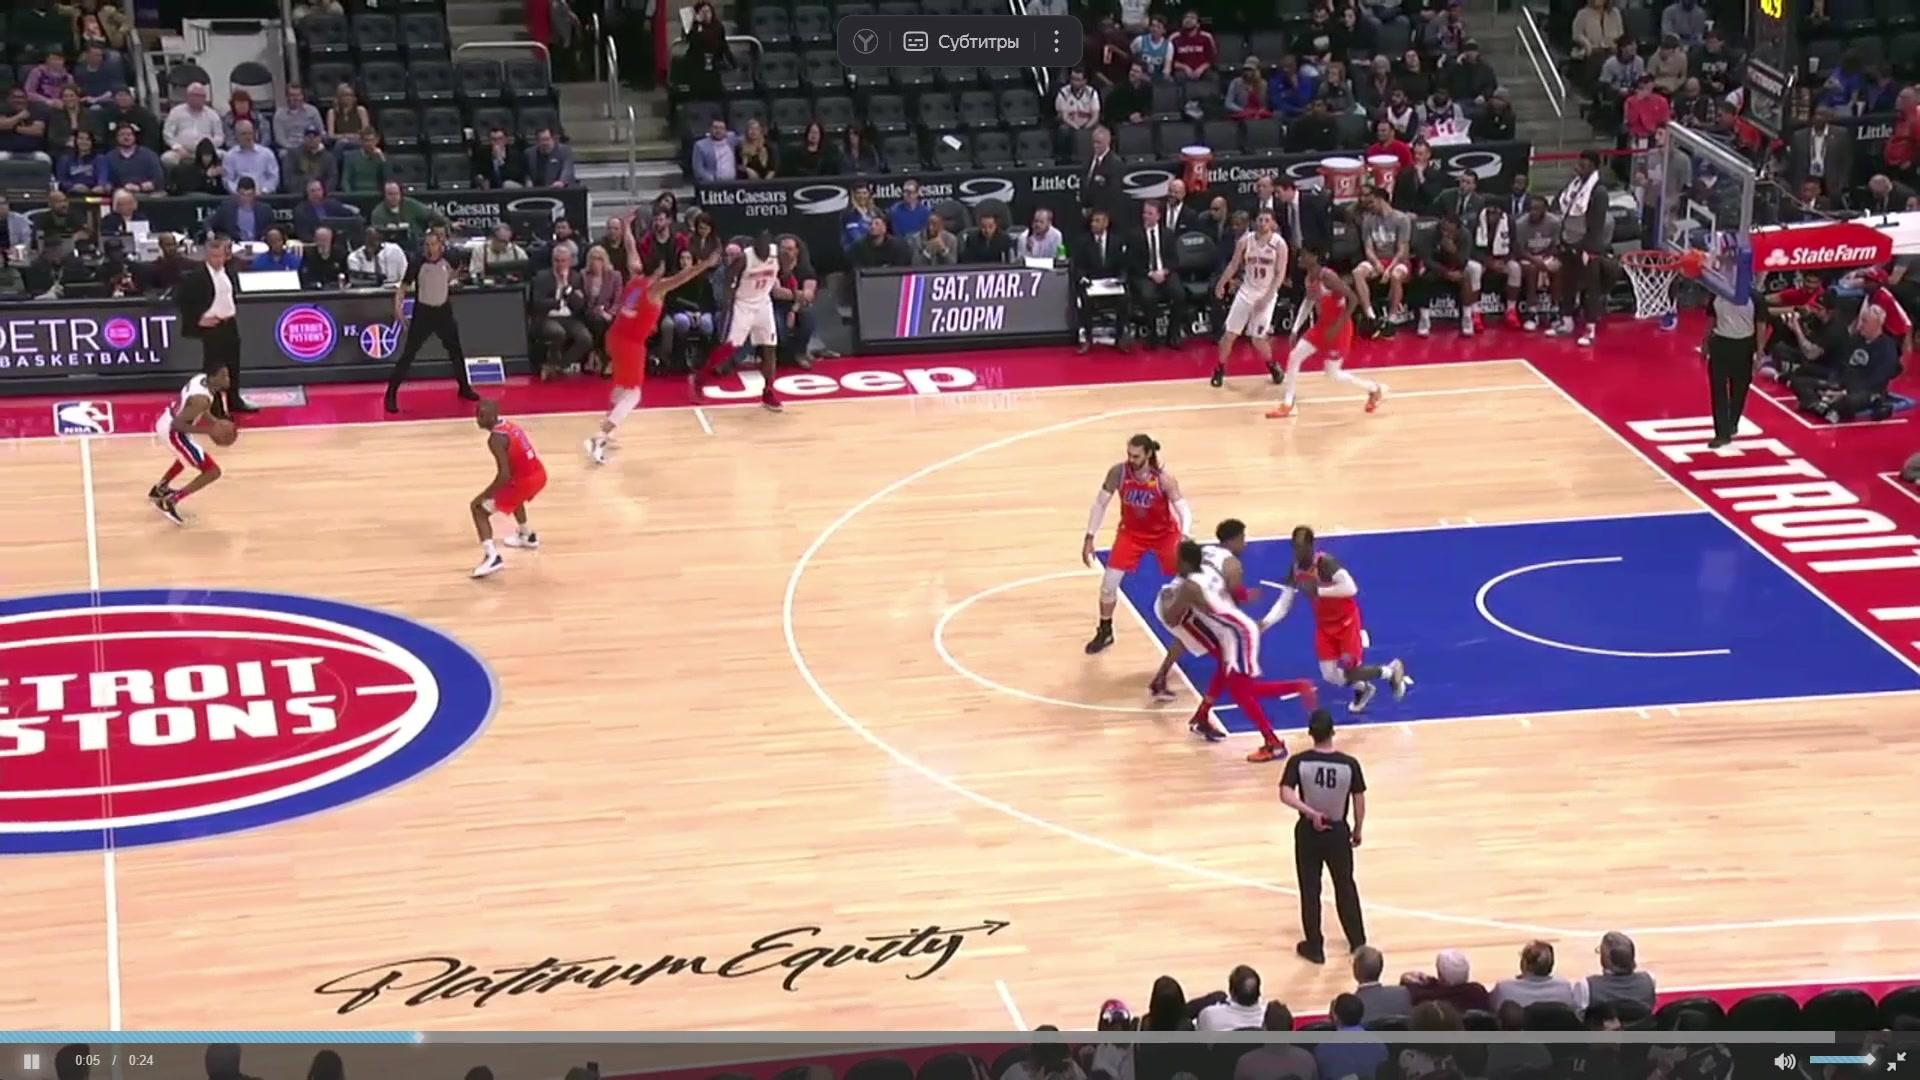no_foul: (1183, 513, 1394, 723)
